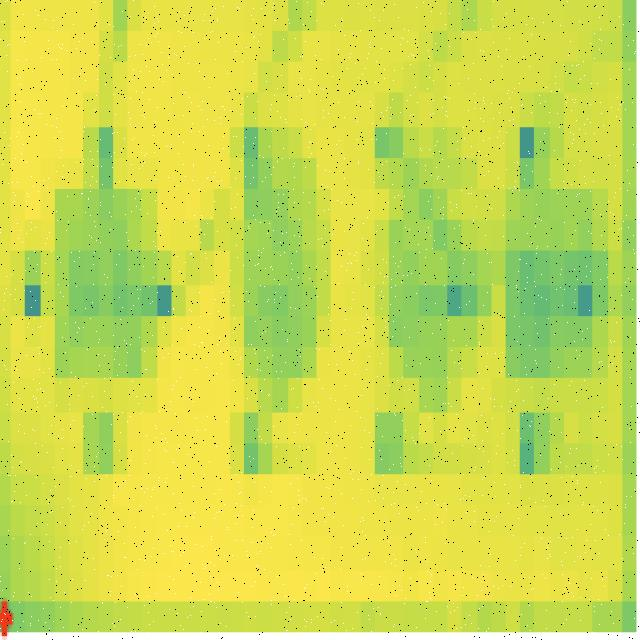Concrete: (502, 104, 616, 407)
Glass: (364, 104, 492, 427)
Metal: (45, 171, 162, 410)
Wood: (217, 83, 332, 434)
